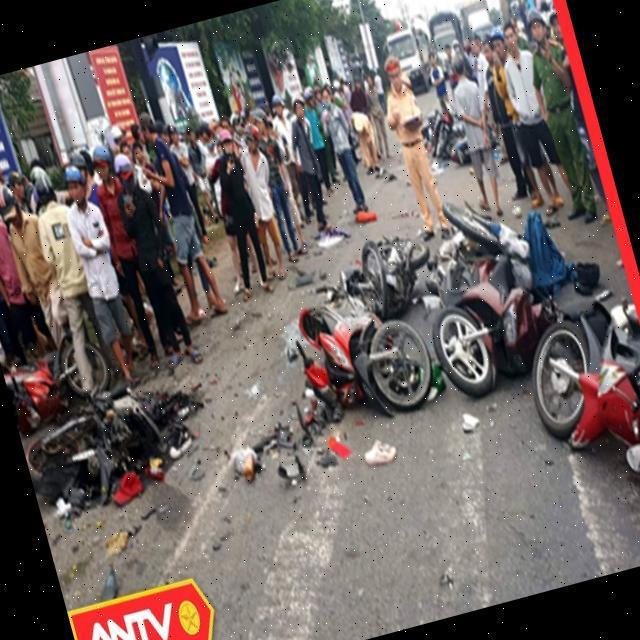accident: (249, 125, 640, 545), (0, 264, 209, 521)
